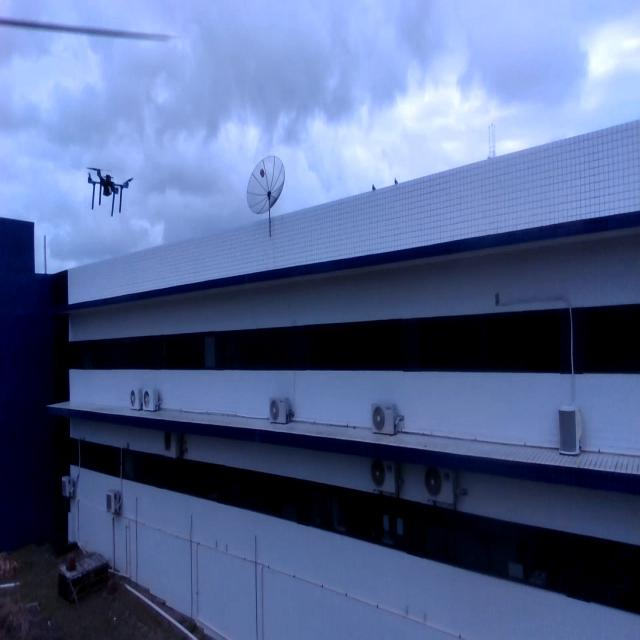-uav-: (82, 158, 134, 220)
